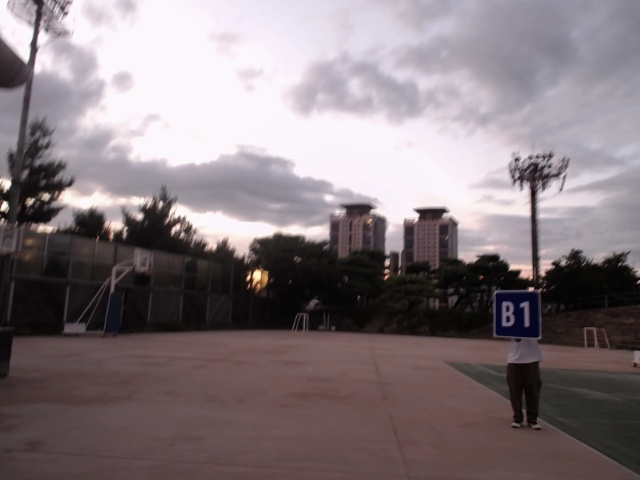delivery_b1: (494, 290, 542, 339)
